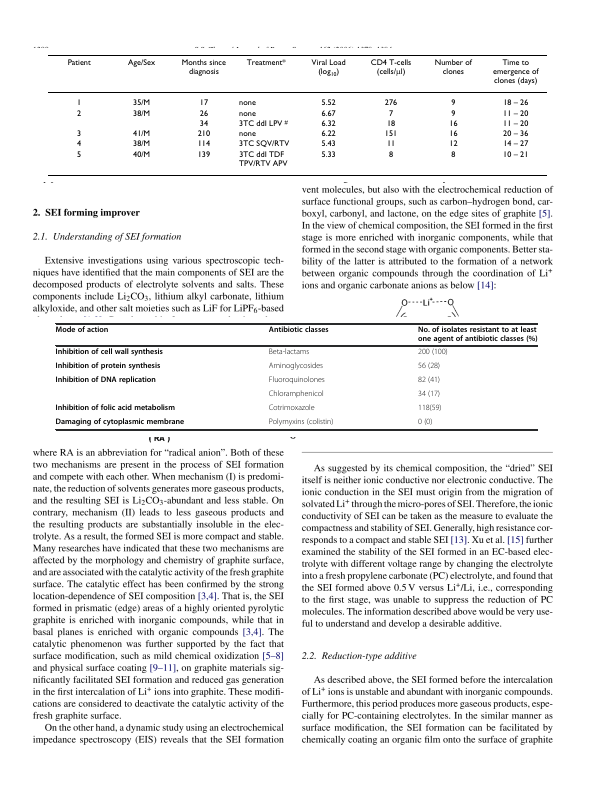borderless: (47, 53, 547, 175), (54, 322, 537, 429)
cell: (417, 326, 538, 344), (491, 57, 539, 86), (55, 418, 185, 428), (55, 404, 176, 414), (55, 348, 164, 358), (55, 362, 161, 372), (55, 376, 157, 386), (238, 149, 288, 168), (369, 56, 412, 78), (180, 57, 226, 76), (310, 57, 346, 78), (433, 57, 472, 76), (268, 418, 334, 428), (268, 376, 326, 386), (268, 362, 324, 372), (268, 390, 324, 400), (268, 326, 330, 335), (238, 139, 290, 149), (238, 118, 288, 128), (55, 326, 109, 335), (268, 404, 315, 414), (268, 348, 310, 358), (245, 57, 286, 67), (417, 348, 448, 358), (126, 57, 156, 67), (502, 98, 529, 108), (502, 108, 529, 118), (502, 129, 529, 139), (502, 139, 529, 149), (502, 149, 529, 159), (417, 404, 442, 414), (66, 57, 91, 67), (502, 119, 529, 128), (417, 362, 441, 372), (417, 376, 441, 386), (417, 390, 441, 400), (132, 98, 151, 108), (132, 108, 151, 118), (132, 129, 151, 139), (132, 139, 151, 149), (132, 149, 151, 159), (238, 98, 256, 108), (238, 108, 256, 118), (238, 129, 256, 139), (417, 418, 433, 428), (320, 98, 336, 108), (320, 108, 336, 118), (320, 129, 336, 139), (320, 139, 336, 149), (320, 149, 336, 159), (383, 98, 398, 108), (196, 129, 211, 139), (383, 129, 398, 139), (196, 139, 211, 149), (196, 149, 211, 159), (320, 119, 336, 128), (198, 98, 209, 108), (198, 108, 209, 118), (385, 139, 396, 149), (448, 129, 458, 139), (448, 139, 458, 149), (198, 119, 209, 128), (385, 119, 396, 128), (448, 119, 458, 128), (387, 108, 394, 118), (387, 149, 394, 159), (76, 98, 82, 108), (450, 98, 456, 108), (76, 108, 82, 118), (450, 108, 456, 118), (76, 129, 82, 139), (76, 139, 82, 149), (76, 149, 82, 159), (450, 149, 456, 159)
